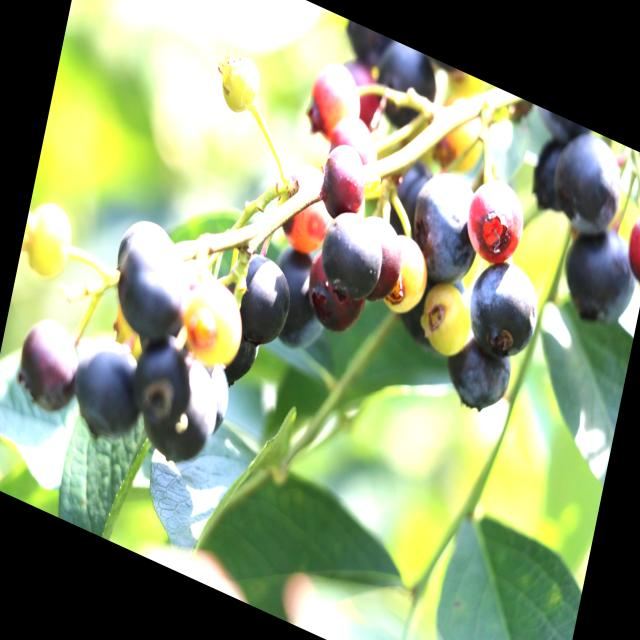blueberry: (138, 342, 228, 474), (542, 121, 631, 249), (554, 215, 640, 340), (462, 252, 546, 372), (112, 223, 188, 344), (411, 164, 483, 288), (10, 303, 85, 422), (68, 330, 141, 448), (268, 241, 334, 371), (226, 242, 299, 348), (439, 330, 513, 424), (317, 204, 386, 304), (128, 328, 194, 431)
blueberry-halfripe: (458, 164, 534, 275), (270, 151, 340, 264), (176, 269, 248, 375), (296, 247, 369, 346), (351, 207, 410, 308), (302, 52, 368, 142), (313, 136, 372, 230), (333, 54, 387, 132), (325, 103, 382, 175), (614, 190, 640, 290)
blueberry-unripe: (16, 191, 75, 293), (382, 232, 438, 326), (418, 276, 477, 362), (210, 40, 269, 124)
